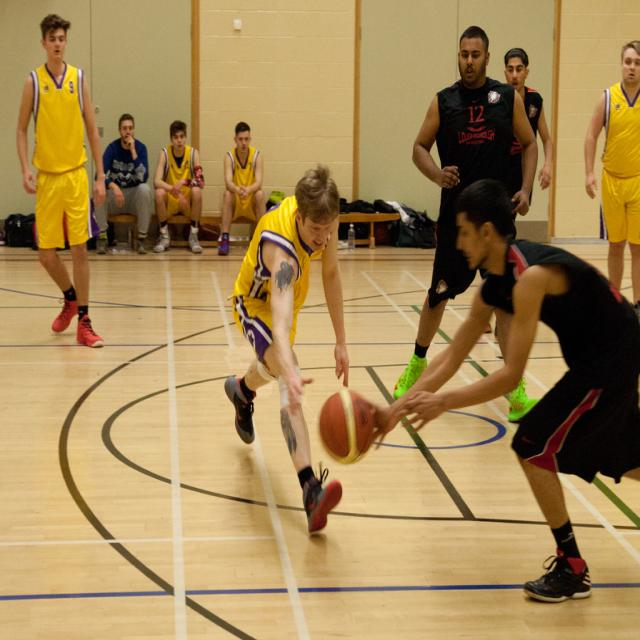Ball: (319, 389, 374, 465)
